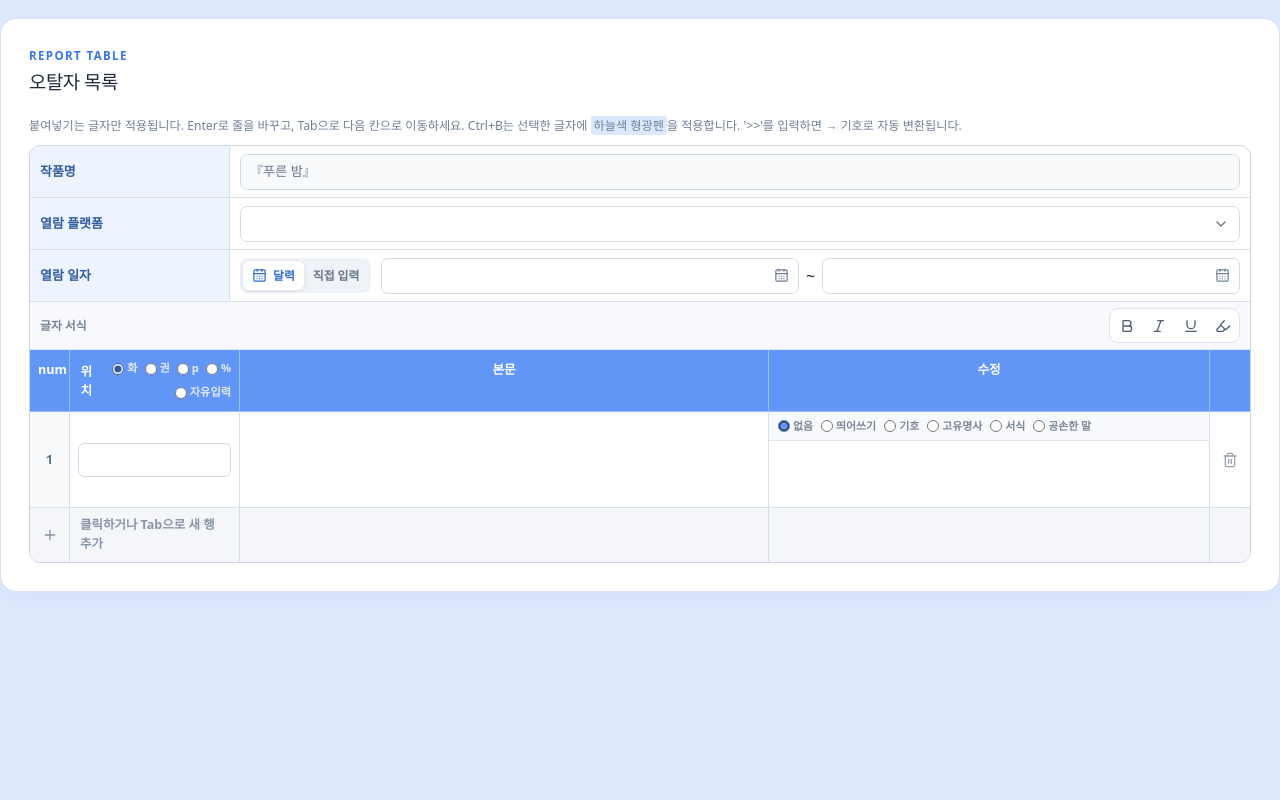
Test case: 오탈자 표 › 달력 날짜를 YYYY/MM/DD 형식으로 입력한다
Type "20260905" into the field named "열람 시작일" at (590, 276), box [381,258,799,294]
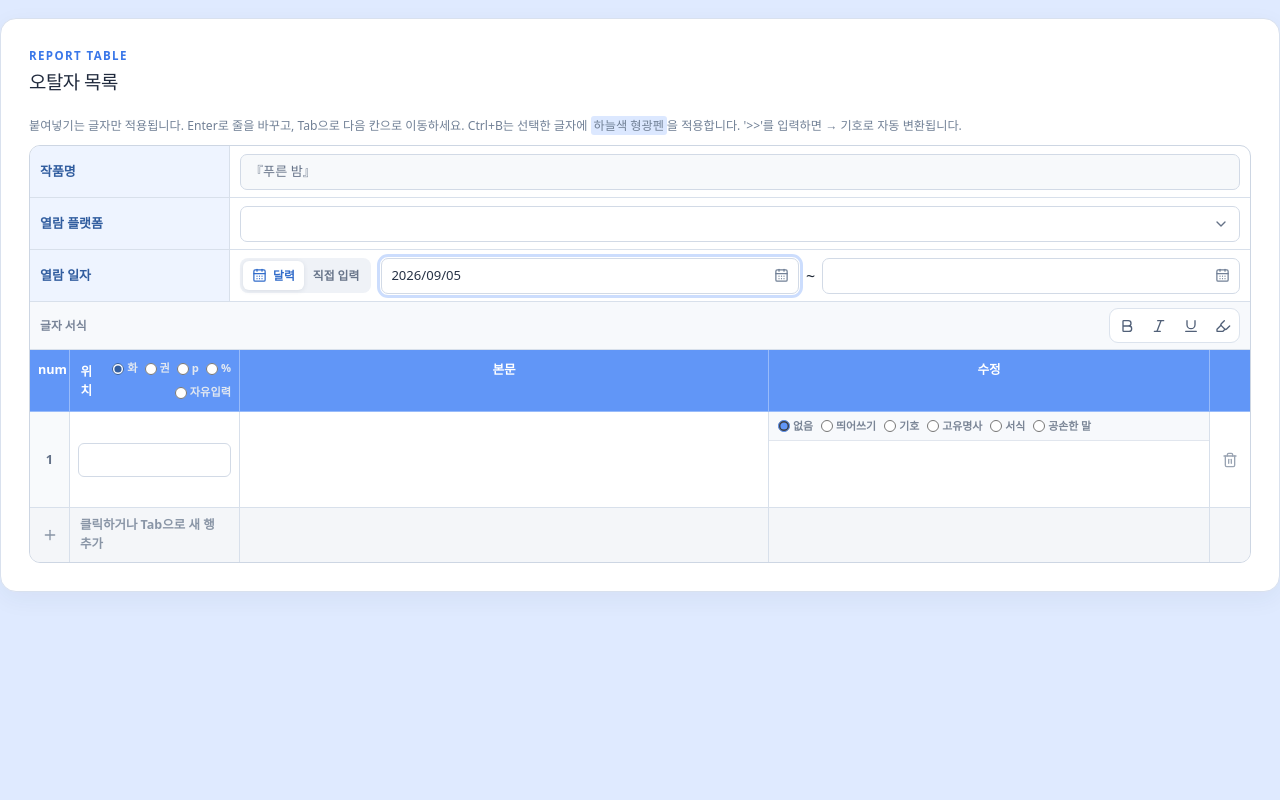
Check: the field named "열람 시작일" holds "2026/09/05", box [381,258,799,294]
